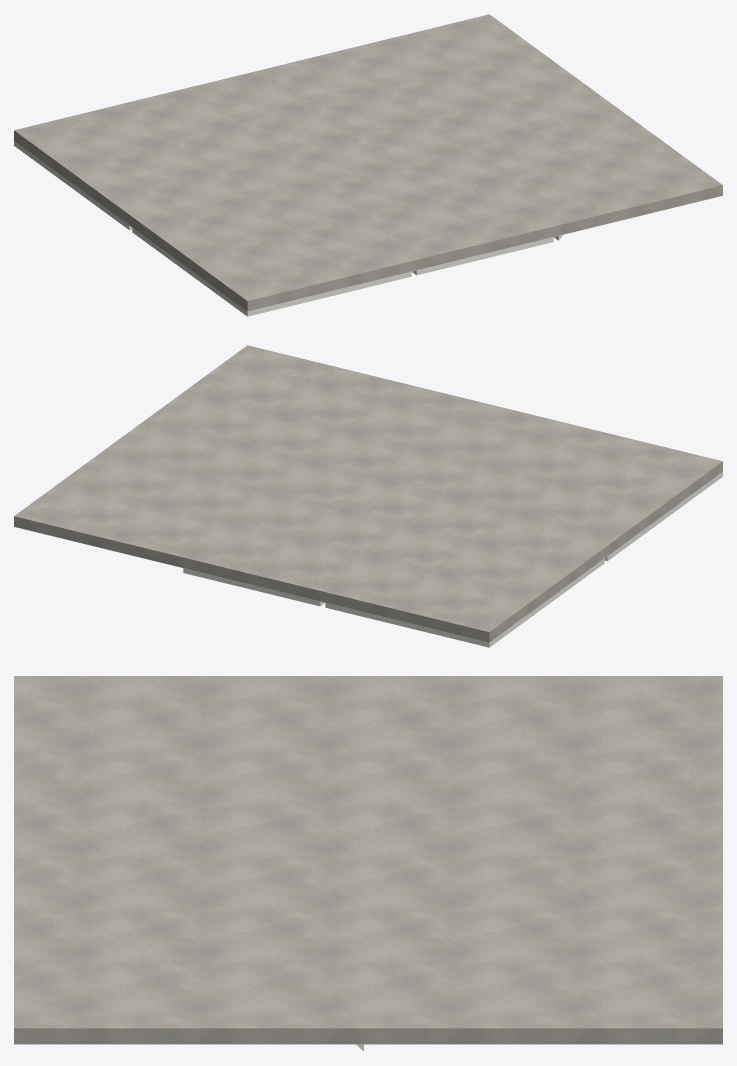
File: ceiling_attic.glb
The picture shows the model from 3 angles, top to bottom: view 1: azimuth 30°, elevation 25°; view 2: azimuth 150°, elevation 25°; view 3: azimuth 270°, elevation 25°; orthographic projection. The views are drawn at different scales.
Parts seen in each view (by area): view 1: ceiling_attic_concrete, ceiling_attic_trim, ceiling_attic_ceil; view 2: ceiling_attic_concrete, ceiling_attic_trim, ceiling_attic_ceil; view 3: ceiling_attic_concrete, ceiling_attic_ceil.
Part boxes in pixels (x1,y1,x2,y2): ceiling_attic_concrete: [14, 14, 722, 311]; ceiling_attic_trim: [14, 141, 562, 316]; ceiling_attic_ceil: [14, 141, 722, 311]; ceiling_attic_concrete: [14, 345, 722, 642]; ceiling_attic_trim: [183, 472, 722, 647]; ceiling_attic_ceil: [14, 472, 722, 642]; ceiling_attic_concrete: [14, 676, 722, 1043]; ceiling_attic_ceil: [14, 1044, 722, 1044].
Bounding box in the file's own units: 13.4 × 0.418 × 11.4.
3 materials, 1 textured.
